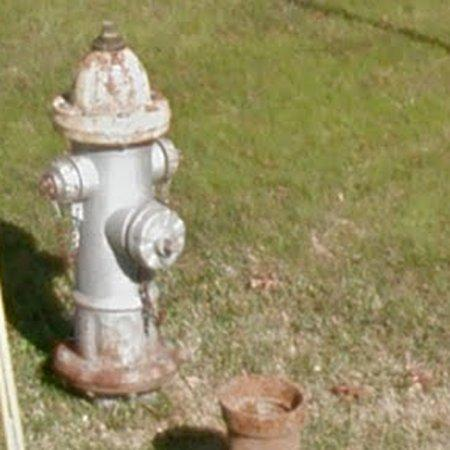a fire hydrant: (40, 22, 185, 396)
